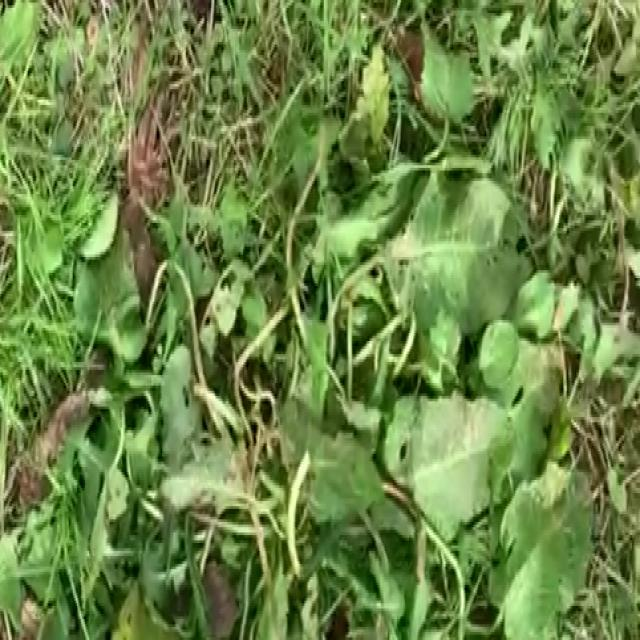organic waste: (53, 115, 607, 640)
